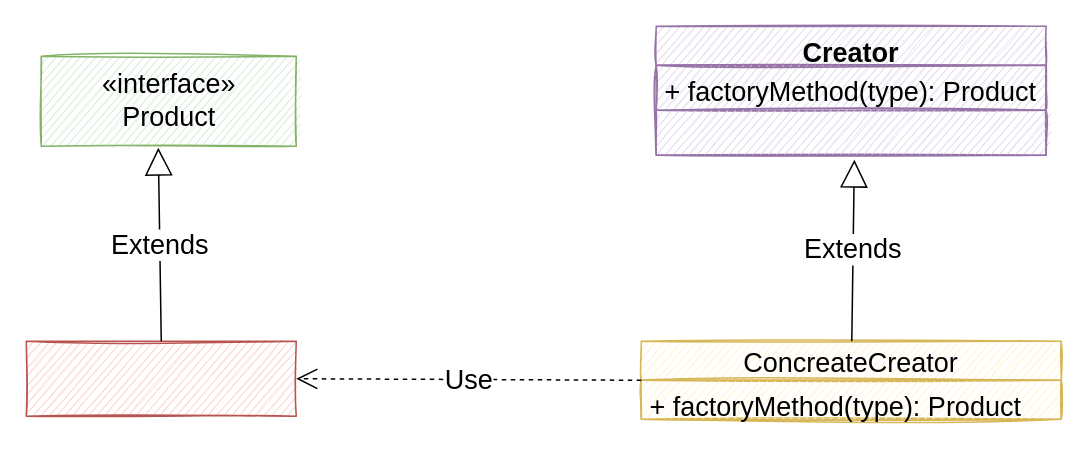
This 1088x450 diagram has some shape labels left out. The centre of each missing label's shape, as x and y in pixels:
+ operator(type): Void: pixel 850 132
ConcreateProduct: pixel 160 378
